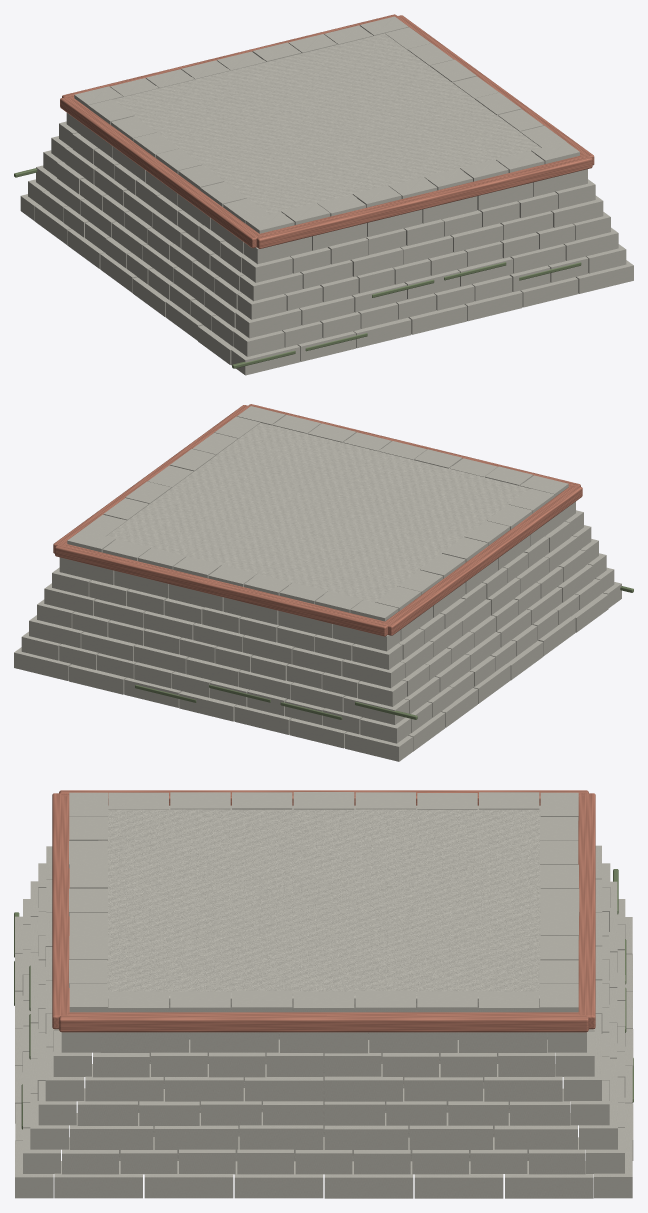
The model's file is jungle-temple-and-stone-city-pyramid-upper-tier-42e594fc__36099.glb.
3 views of the same model, one above another, from view 1: azimuth 30°, elevation 25°; view 2: azimuth 150°, elevation 25°; view 3: azimuth 270°, elevation 25° (orthographic). The views are drawn at different scales.
Visible parts, largest first — view 1: pyramid-upper-tier; view 2: pyramid-upper-tier; view 3: pyramid-upper-tier.
Boxes of the visible parts, <box> form: pyramid-upper-tier: <box>14,14,633,375</box>; pyramid-upper-tier: <box>14,404,633,761</box>; pyramid-upper-tier: <box>14,790,633,1198</box>.
Size of the model in its own units: 8.24 by 2.41 by 8.03.
Materials: 3 (3 with a texture image).
